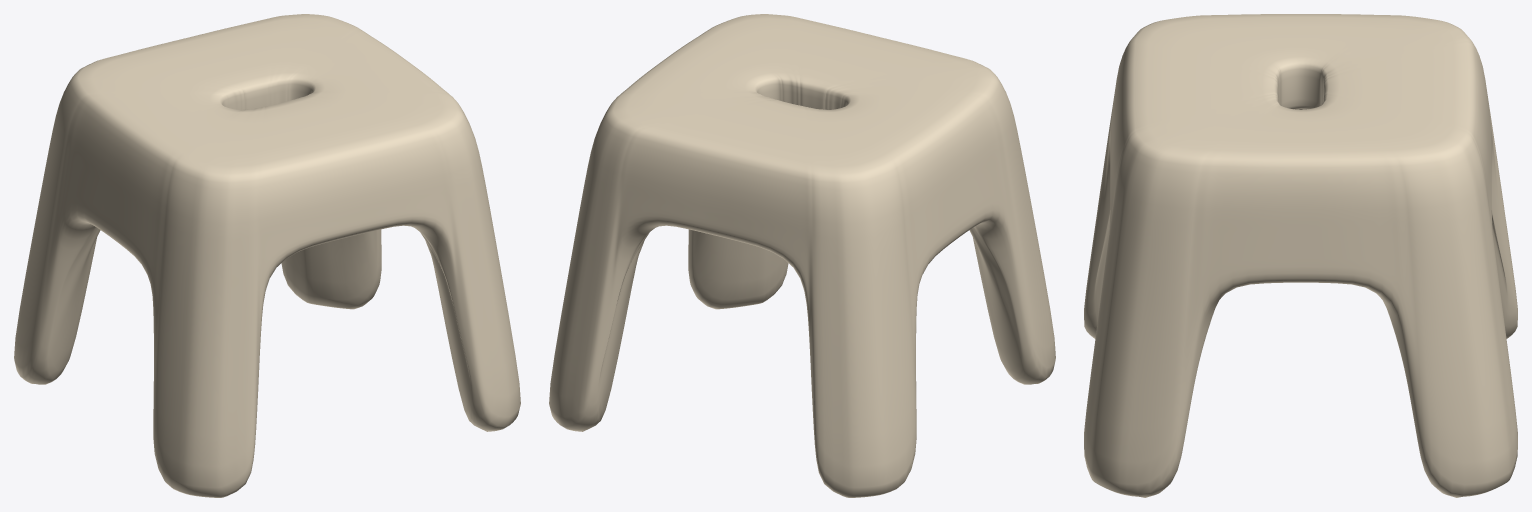
The model's file is comparison-high.glb.
3 renders of one model, left to right at view 1: azimuth 30°, elevation 25°; view 2: azimuth 150°, elevation 25°; view 3: azimuth 270°, elevation 25°, orthographic. The views are drawn at different scales.
Parts seen in each view (by area): view 1: bath_stool_comparison_high; view 2: bath_stool_comparison_high; view 3: bath_stool_comparison_high.
Boxes of the visible parts, box(x1,y1,x2,y2) form: bath_stool_comparison_high: box(14, 14, 520, 497); bath_stool_comparison_high: box(549, 14, 1055, 497); bath_stool_comparison_high: box(1084, 14, 1517, 497).
Bounding box in the file's own units: 0.36 × 0.3 × 0.36.
